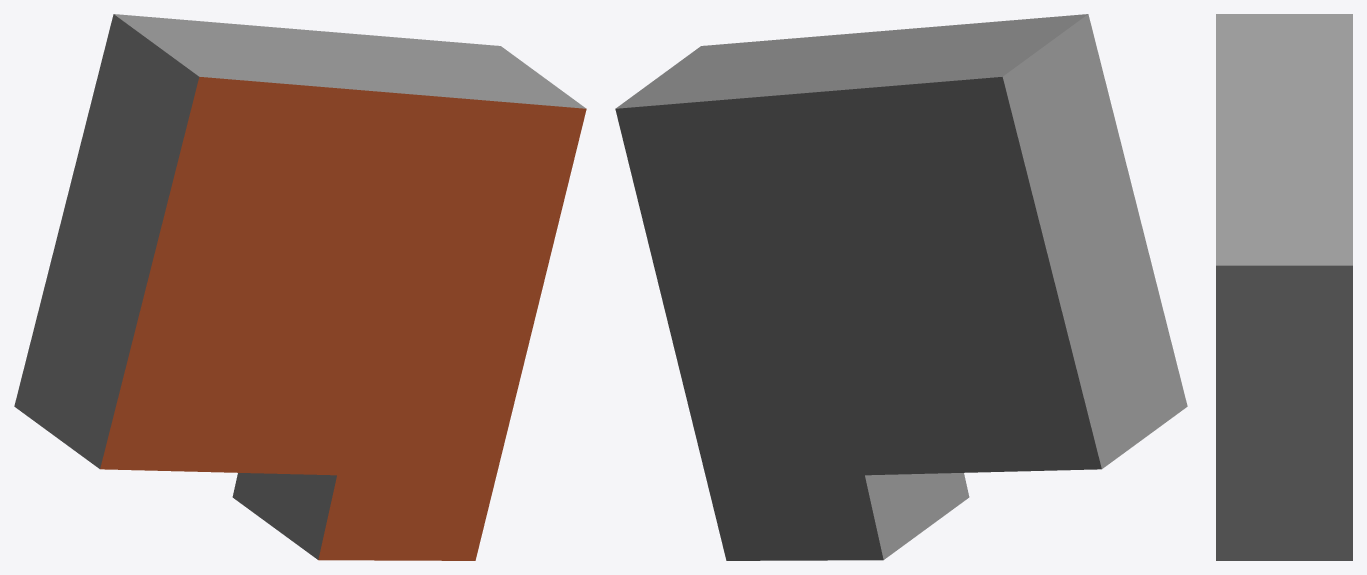
Rendered from construction_4365_assumed_A_Casa_h6m.obj.
The picture shows the model from 3 angles, left to right: view 1: azimuth 30°, elevation 25°; view 2: azimuth 150°, elevation 25°; view 3: azimuth 270°, elevation 25°; orthographic projection. The views are drawn at different scales.
Parts seen in each view (by area): view 1: construction_4365_assumed_A_Casa; view 2: construction_4365_assumed_A_Casa; view 3: construction_4365_assumed_A_Casa.
Boxes of the visible parts, bbox=[...] form: construction_4365_assumed_A_Casa: bbox=[14, 14, 586, 560]; construction_4365_assumed_A_Casa: bbox=[615, 14, 1187, 560]; construction_4365_assumed_A_Casa: bbox=[1216, 14, 1352, 560].
Size of the model in its own units: 19.65 by 21.28 by 6.
